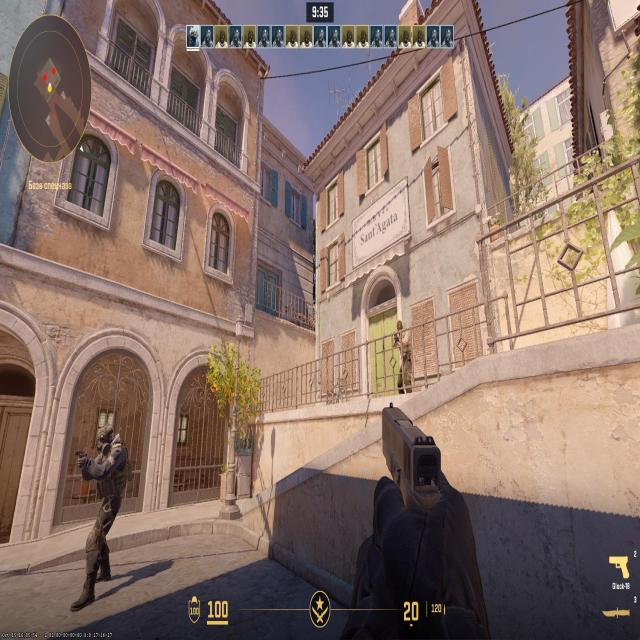CT: (98, 428, 120, 580)
CT_heat: (102, 433, 110, 446)
T: (394, 324, 412, 390)
T_heat: (400, 324, 404, 338)
